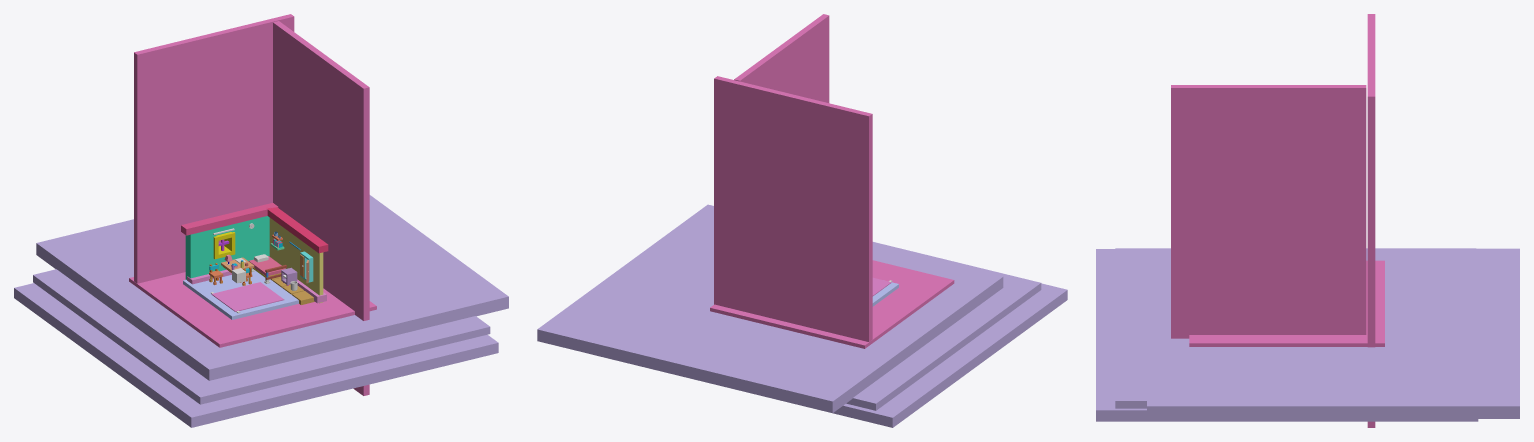
The model's file is HostelRoom.glb.
The picture shows the model from 3 angles, left to right: view 1: azimuth 30°, elevation 25°; view 2: azimuth 150°, elevation 25°; view 3: azimuth 270°, elevation 25°; orthographic projection. The views are drawn at different scales.
Parts seen in each view (by area): view 1: Cube.068, Cube.066, Cube.067, Cube.071, Cube.070, Cube.065, Cube.008, Cube.003, Cube.007, Plane, Cube.076, Cube.077 (+1 smaller); view 2: Cube.068, Cube.066, Cube.071, Cube.070, Cube.067, Cube.065; view 3: Cube.067, Cube.066, Cube.070, Cube.071, Cube.065, Cube.068.
Part boxes in pixels (x1,y1,x2,y2): Cube.068: (134,14,294,283); Cube.066: (36,195,508,380); Cube.067: (273,21,369,395); Cube.071: (14,283,498,427); Cube.070: (33,269,490,404); Cube.065: (129,272,376,347); Cube.008: (185,216,269,279); Cube.003: (183,270,298,319); Cube.007: (269,218,323,303); Plane: (211,282,284,311); Cube.076: (181,203,278,235); Cube.077: (266,207,328,253); Cube.068: (714,76,872,341); Cube.066: (537,204,1003,413); Cube.071: (833,283,1067,427); Cube.070: (846,242,1041,410); Cube.067: (734,14,829,102); Cube.065: (710,260,954,348); Cube.067: (1171,85,1366,338); Cube.066: (1147,248,1519,418); Cube.070: (1115,248,1475,408); Cube.071: (1096,249,1478,421); Cube.065: (1189,260,1384,346); Cube.068: (1367,14,1375,427).
Bounding box in the file's own units: 75.51 × 65.04 × 75.41.
